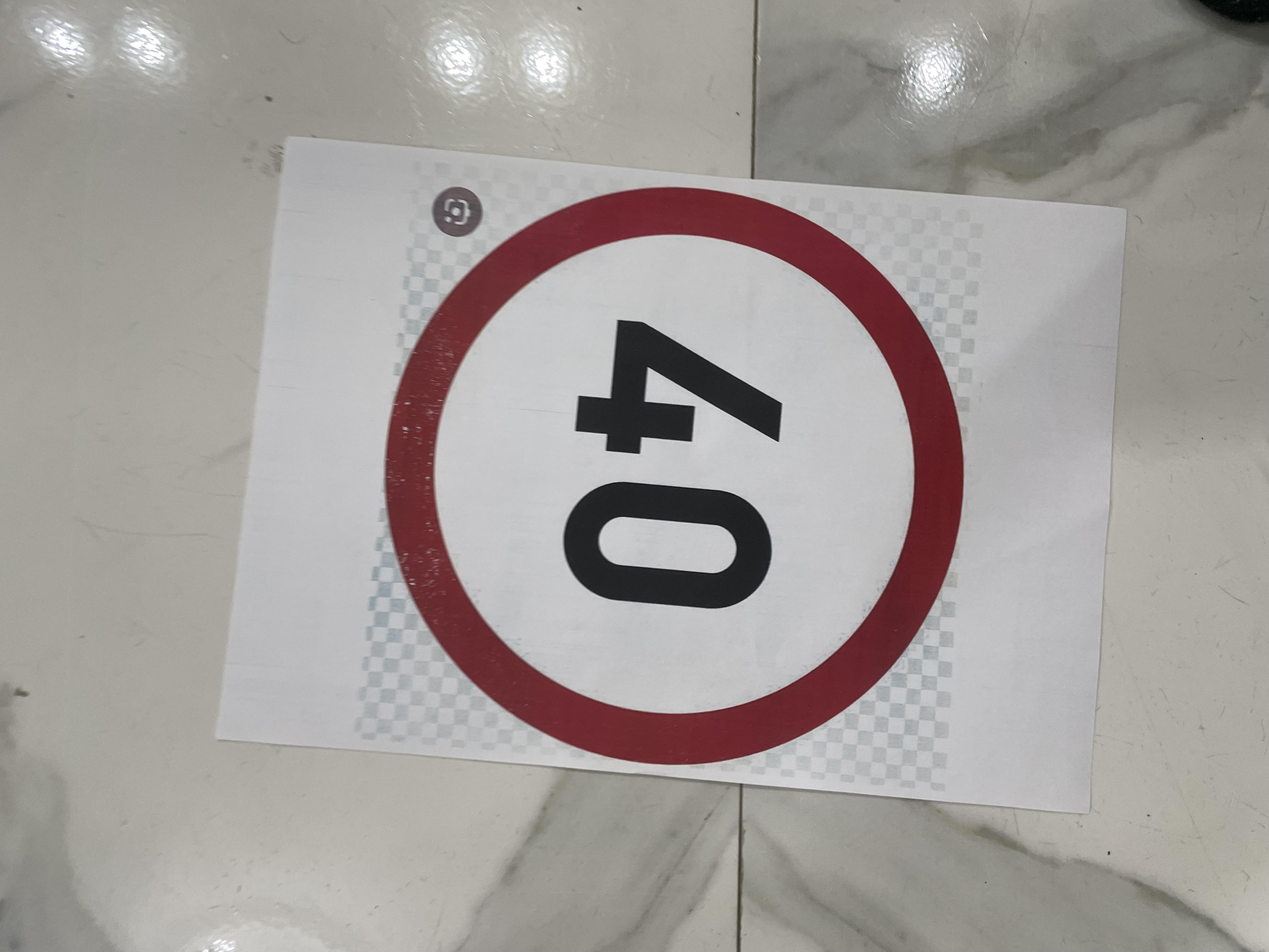40-Speed: (236, 289, 1039, 725)
